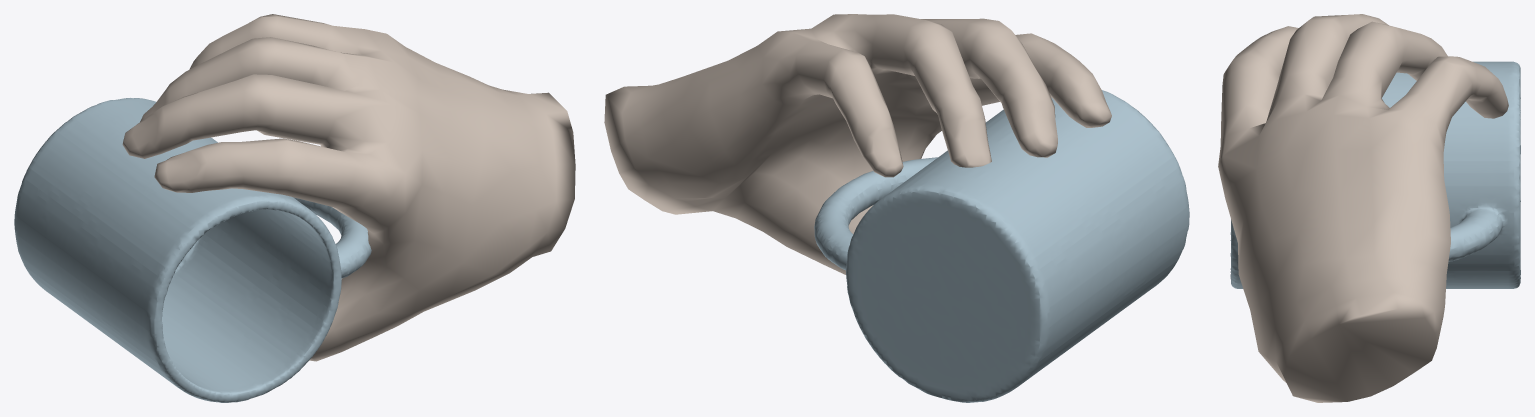
File: ours_1.glb
The picture shows the model from 3 angles, left to right: view 1: azimuth 30°, elevation 25°; view 2: azimuth 150°, elevation 25°; view 3: azimuth 270°, elevation 25°; orthographic projection. The views are drawn at different scales.
Size of the model in its own units: 0.205 by 0.1264 by 0.1094.
